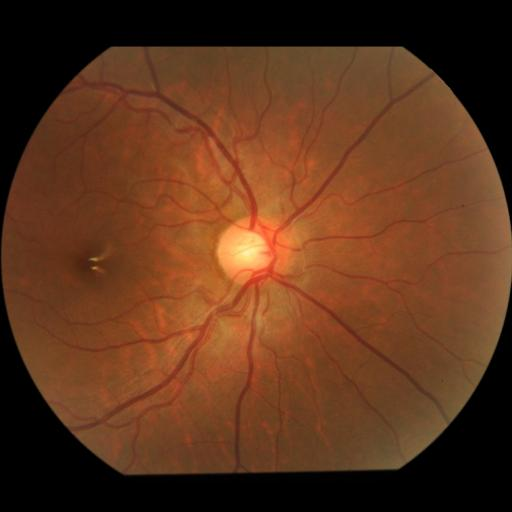Optic Cup: (231, 232, 268, 266)
Optic Disc: (217, 215, 286, 287)
